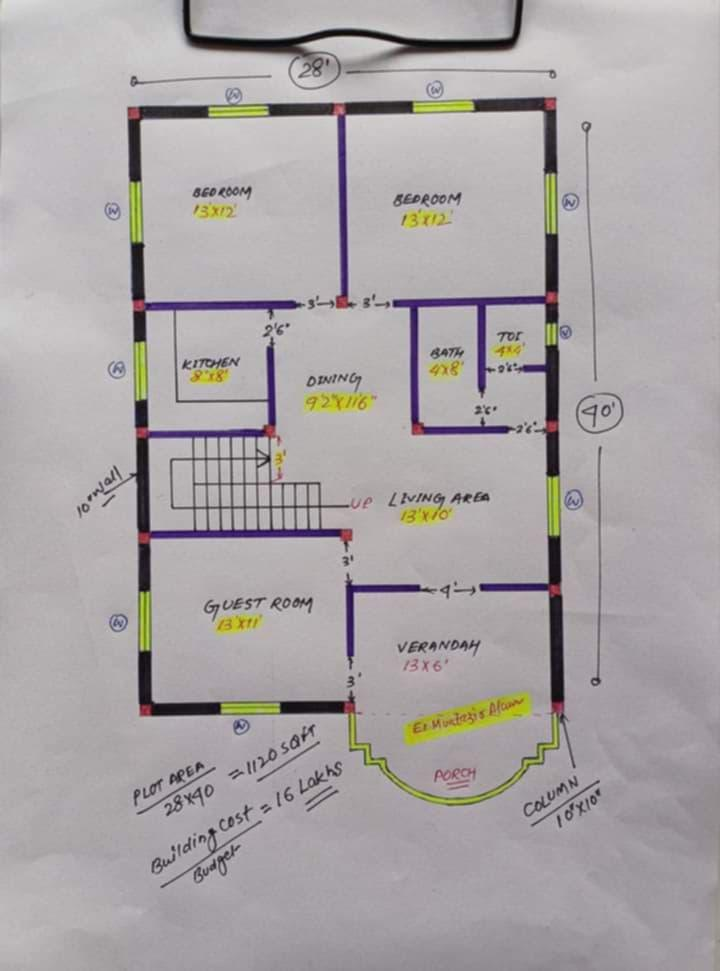Blueprint: (113, 86, 585, 732)
